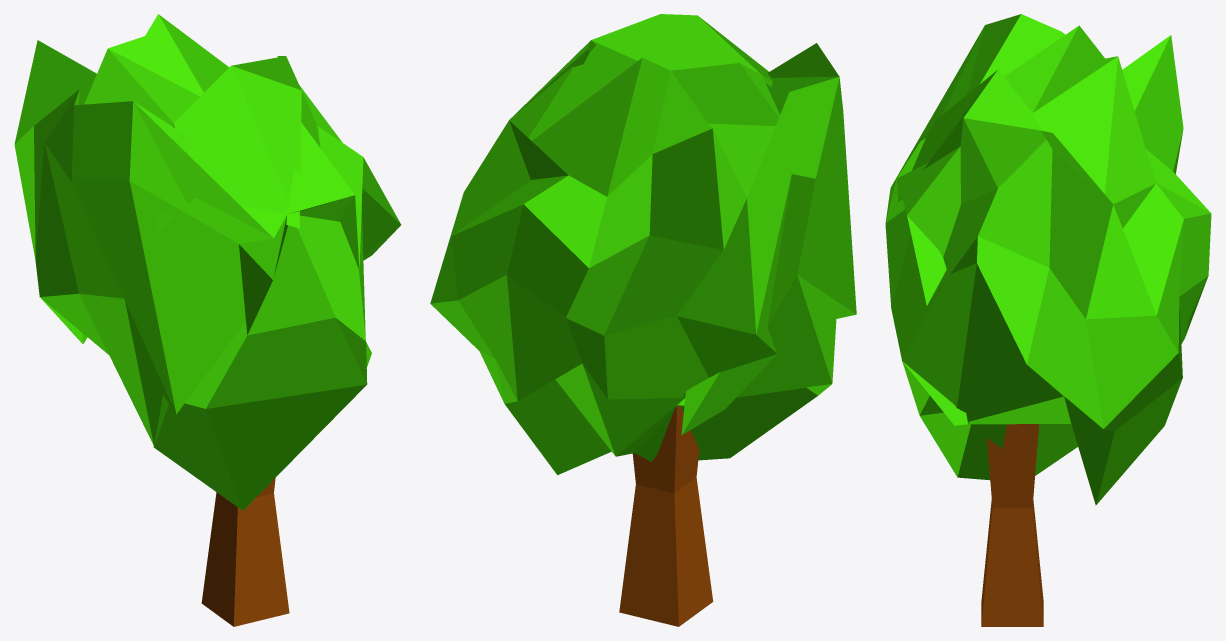
File: wood3.fbx
The picture shows the model from 3 angles, left to right: view 1: azimuth 30°, elevation 25°; view 2: azimuth 150°, elevation 25°; view 3: azimuth 270°, elevation 25°; orthographic projection. The views are drawn at different scales.
Parts seen in each view (by area): view 1: 立方体, Cube; view 2: 立方体, Cube; view 3: 立方体, Cube.
Boxes of the visible parts, x1,y1,x2,y2 form: 立方体: (14,14,401,510); Cube: (201,478,289,626); 立方体: (430,14,856,475); Cube: (619,405,713,626); 立方体: (885,14,1211,505); Cube: (981,424,1043,626).
Bounding box in the file's own units: 122 × 193 × 105.
